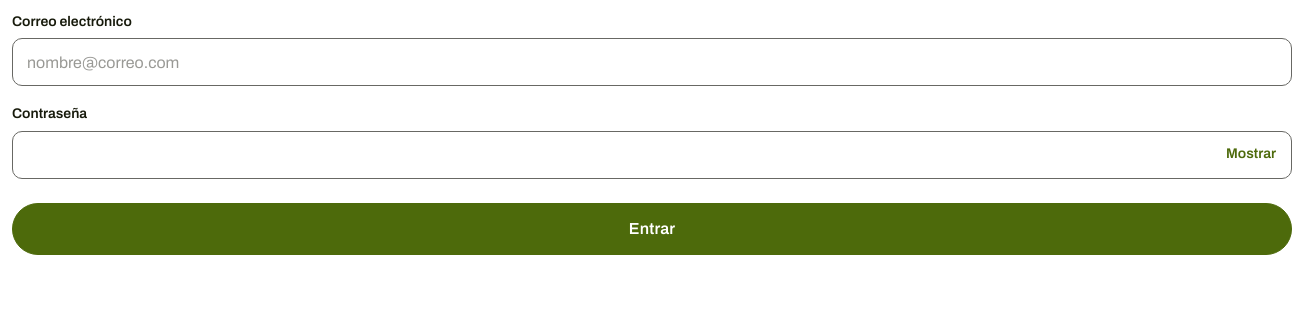
it: LoginForm: fields are checked before sending › asks for both fields when they are empty, and sends nothing
The width and height of the screenshot is (1304, 324).
Click the button "Entrar": (652, 229) [12,203,1292,255]
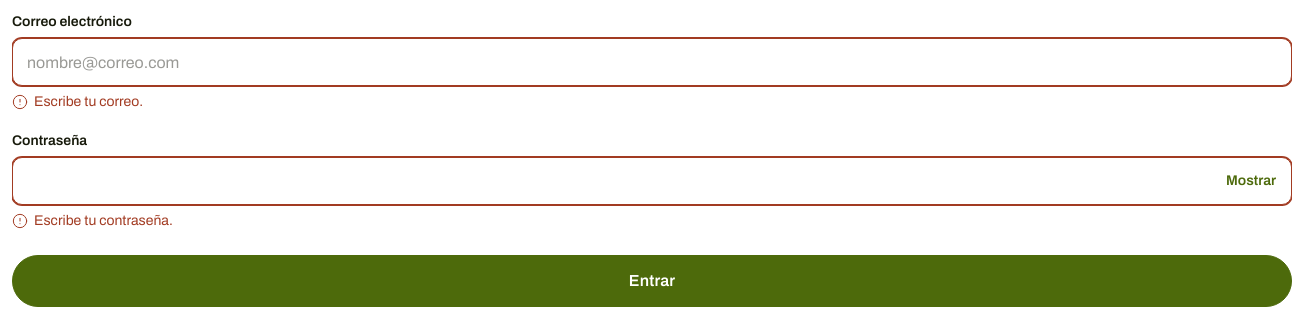
Now the text "Escribe tu correo." is shown, box [34,92,143,113]
